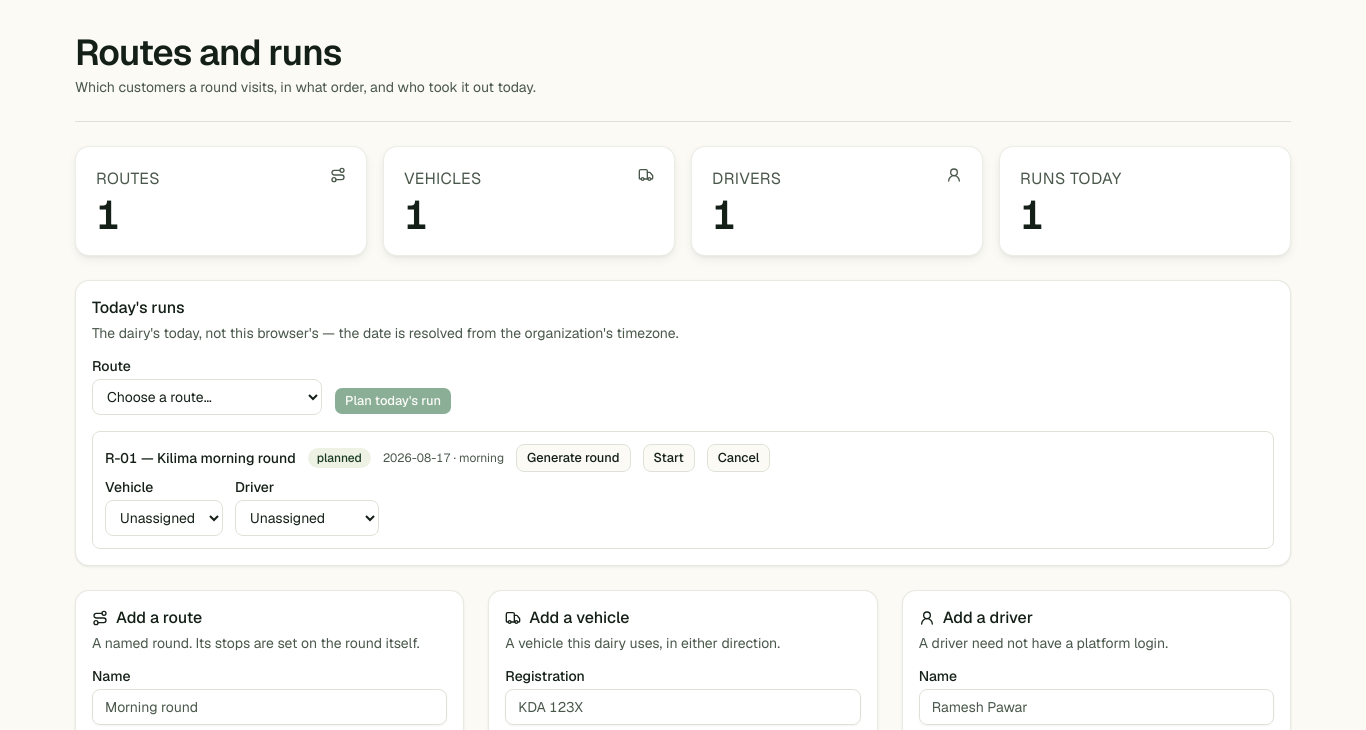
Scenario: routes and runs › generates the round and reports what the delivery domain did
What coordinates should you click on to do the following:
click the button "Generate round"
I would click on:
 (573, 458)
Its box is [516,444,631,472].
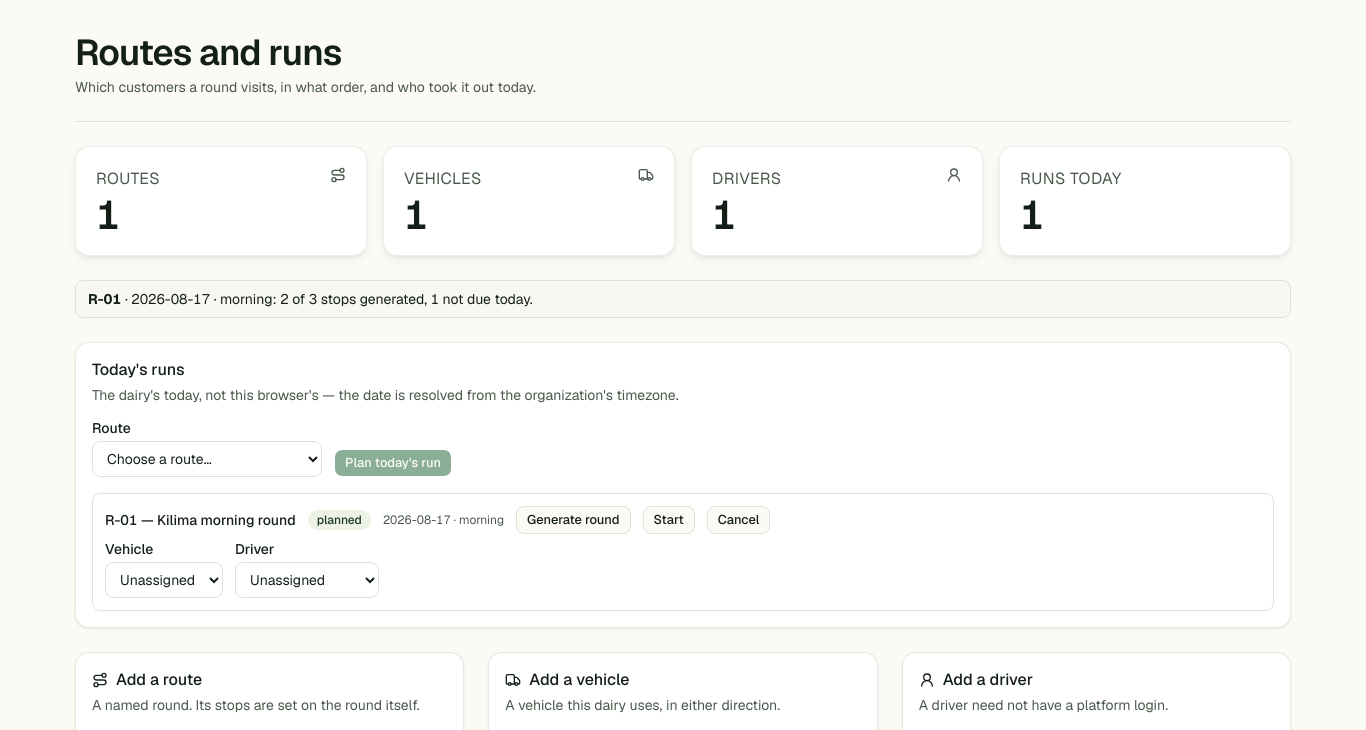
Expected: the text "2 of 3 stops generated" is shown, [75,280,1291,318]
Expected: the text "1 not due today" is shown, [424,290,530,308]
